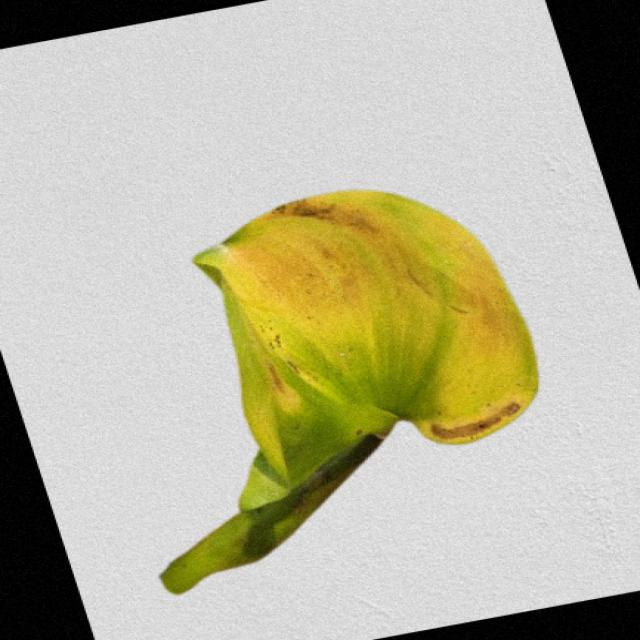daun berpenyakit kuning: (162, 191, 538, 593)
